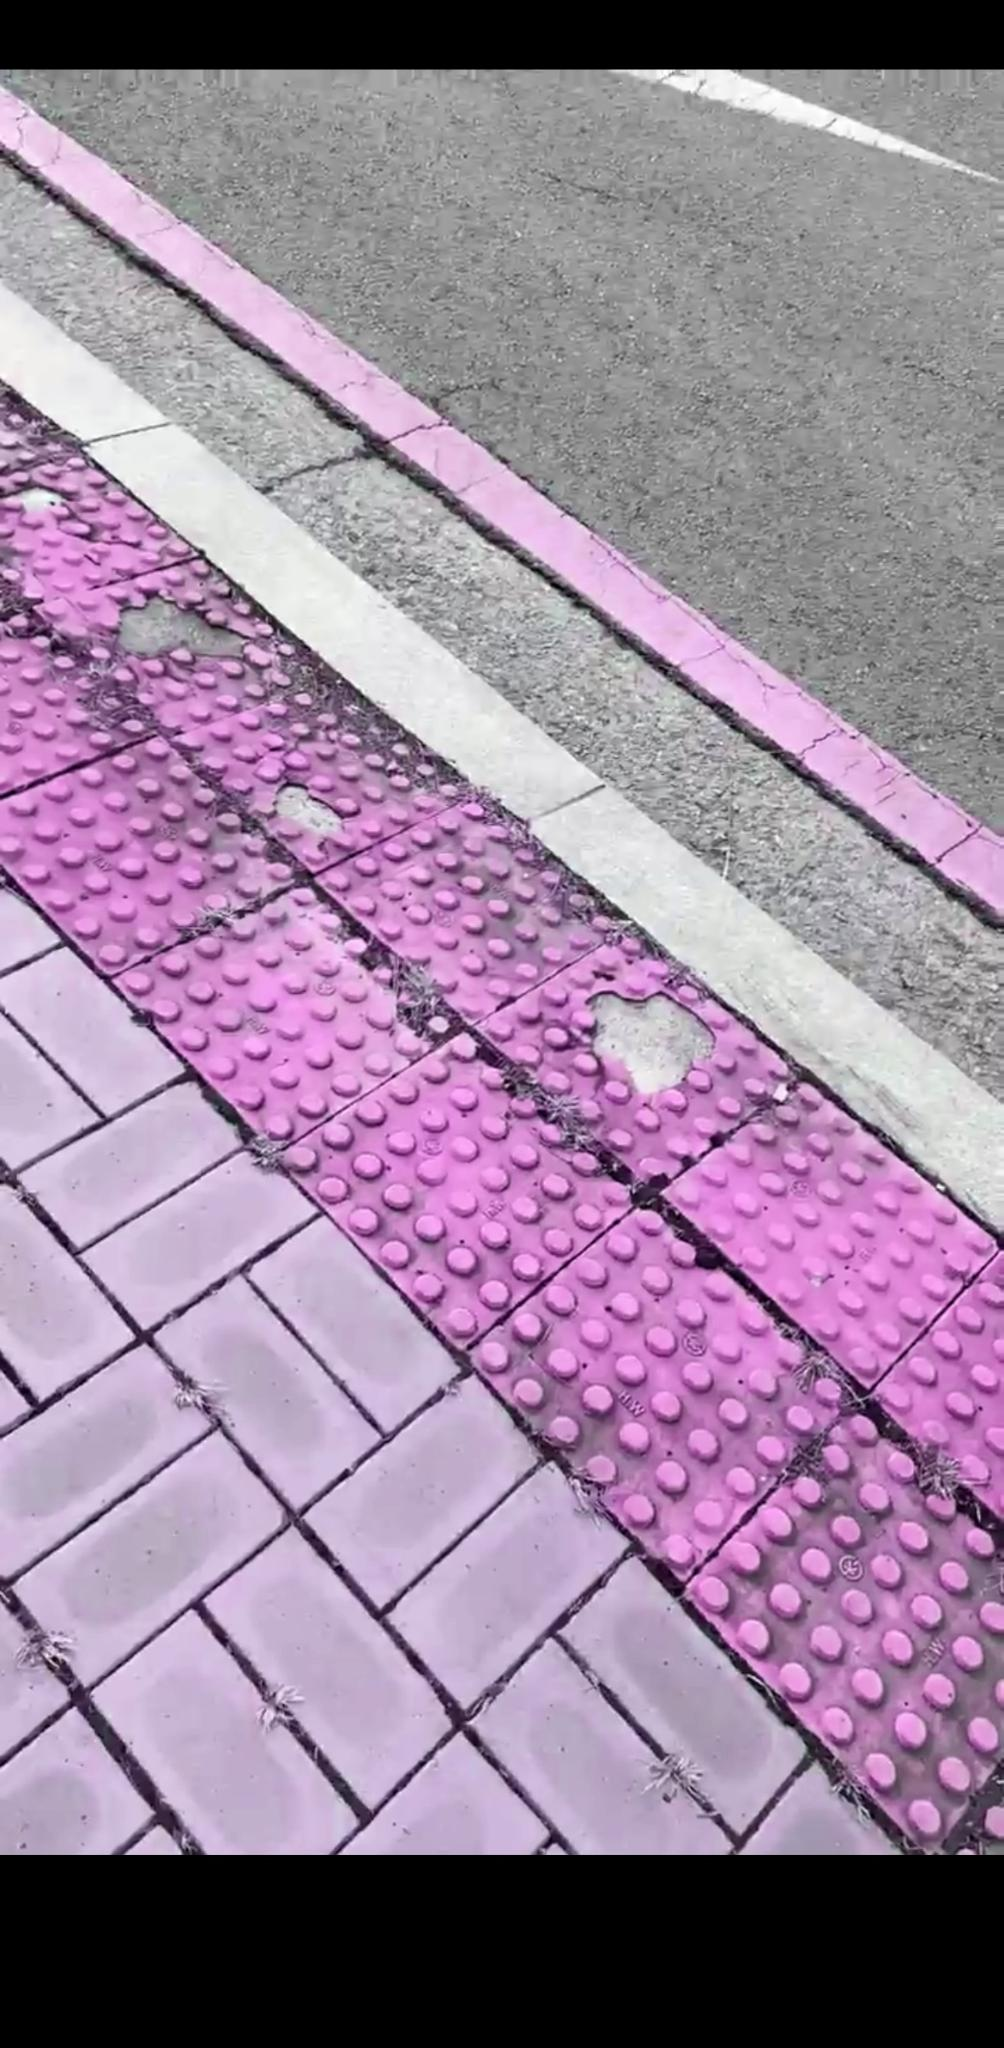Stop block broken: (478, 929, 798, 1190), (175, 682, 465, 872), (34, 556, 336, 737)
Stop block normal: (279, 1031, 642, 1348), (662, 1080, 997, 1386)
